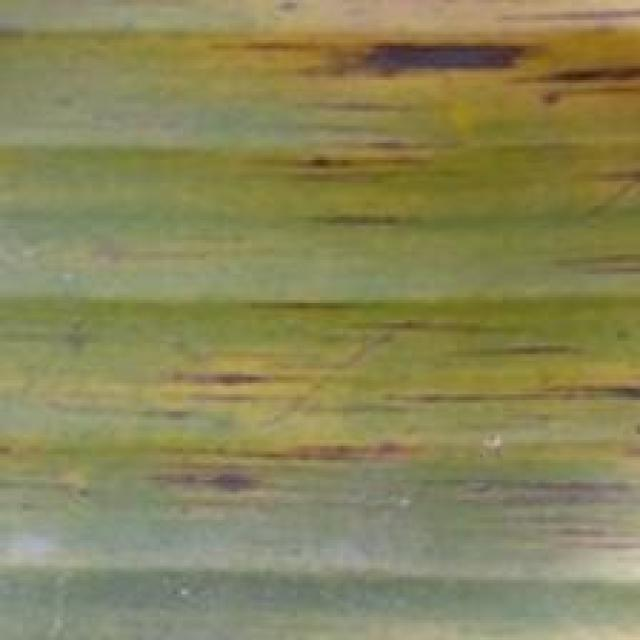Early_leaf_spot: (54, 348, 417, 512), (200, 0, 640, 120), (444, 319, 638, 551), (212, 107, 424, 187), (284, 198, 426, 244)
